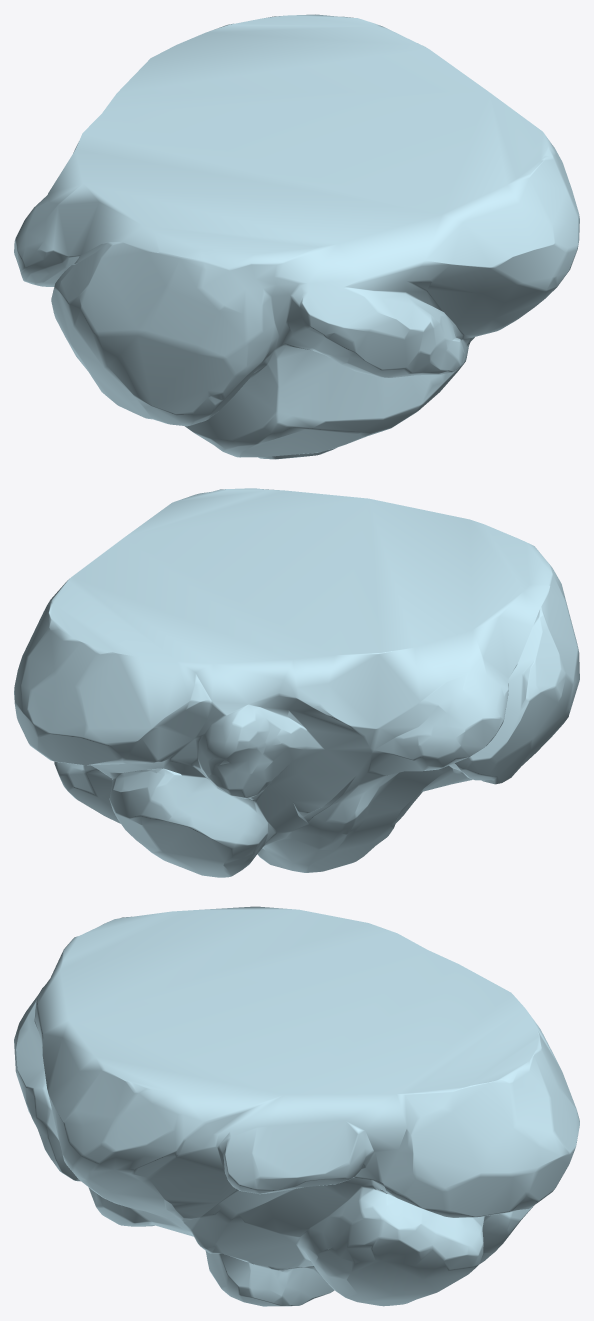
Rendered from island_9_LOD1.fbx.
The picture shows the model from 3 angles, top to bottom: view 1: azimuth 30°, elevation 25°; view 2: azimuth 150°, elevation 25°; view 3: azimuth 270°, elevation 25°; orthographic projection. The views are drawn at different scales.
Visible parts, largest first — view 1: island_9_LOD1; view 2: island_9_LOD1; view 3: island_9_LOD1.
Part boxes in pixels (<box>): island_9_LOD1: <box>14,14,579,459</box>; island_9_LOD1: <box>14,488,579,877</box>; island_9_LOD1: <box>14,906,579,1306</box>.
Bounding box in the file's own units: 1330 × 788 × 1417.
